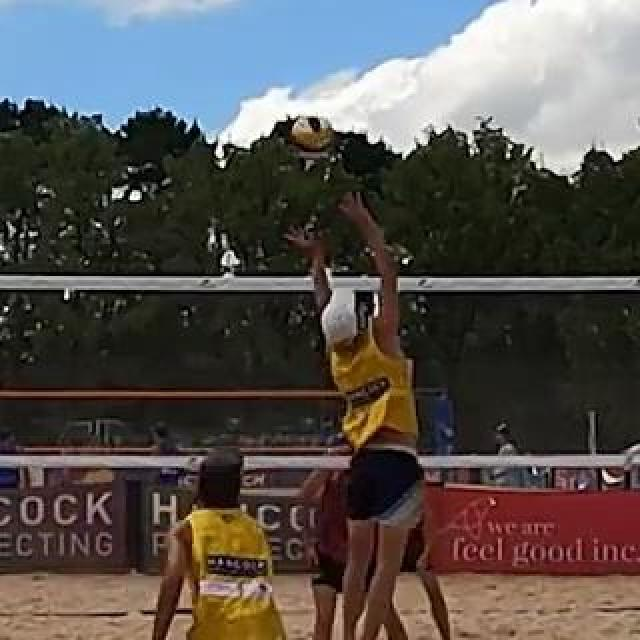volleyball: (292, 116, 334, 158)
